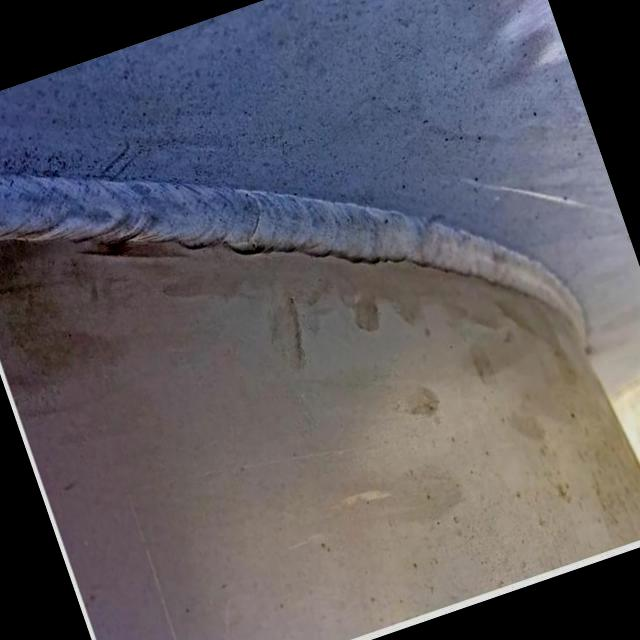defect: (221, 238, 545, 310)
